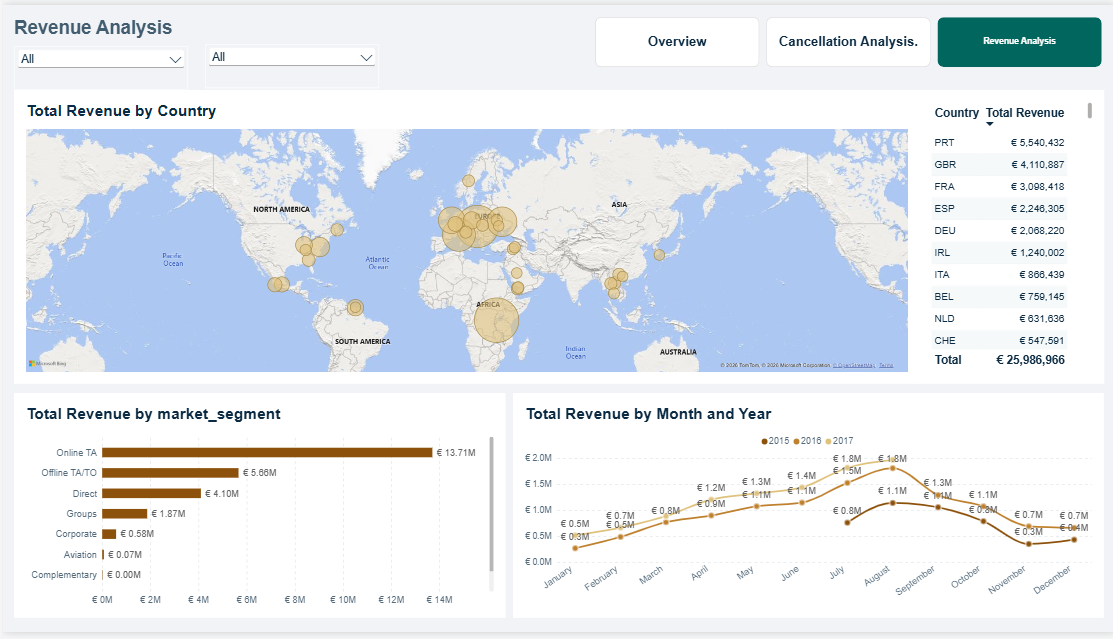

The page's visual inventory and layout, read from the dashboard file:
{"tool":"powerbi","page":{"name":"Revenue Analysis","canvas":[1920,1080],"ordinal":2},"visuals":[{"type":"slicer","fields":{"Values":["DateTable.Year"]},"box":[18.5,70,299.9,75.8],"z":0},{"type":"slicer","fields":{"Values":["vw_bookings_detail.hotel"]},"box":[347.8,67.9,299.9,75.8],"z":1000},{"type":"map","fields":{"Category":["vw_bookings_detail.country"],"Size":["_Measures.Total Revenue"]},"box":[18.2,147.2,1561,506.2],"z":2000},{"type":"barChart","fields":{"Category":["vw_bookings_detail.market_segment"],"Y":["_Measures.Total Revenue"]},"box":[18.2,669.6,847.1,387.2],"z":3000},{"type":"lineChart","fields":{"Category":["DateTable.Month"],"Series":["DateTable.Year"],"Y":["_Measures.Total Revenue"]},"box":[879.3,669.6,1018.5,387.2],"z":4000},{"type":"textbox","box":[19,20.7,380.9,75.8],"z":5000},{"type":"pageNavigator","box":[1018.6,18.5,878.7,90.5],"z":6000},{"type":"tableEx","fields":{"Values":["vw_bookings_detail.country","_Measures.Total Revenue"]},"box":[1579.2,147.2,318.7,506.2],"z":6001}]}

Visuals, with their boxes in screenshot pixels (x1, y1, x2, y2), scaled from the page's 1920x1080 canvas onto the 1113x639 screenshot:
slicer - DateTable.Year: x1=11 y1=41 x2=185 y2=86
slicer - vw_bookings_detail.hotel: x1=202 y1=40 x2=375 y2=85
map - vw_bookings_detail.country x _Measures.Total Revenue: x1=11 y1=87 x2=915 y2=387
barChart - vw_bookings_detail.market_segment x _Measures.Total Revenue: x1=11 y1=396 x2=502 y2=625
lineChart - DateTable.Month x DateTable.Year: x1=510 y1=396 x2=1100 y2=625
textbox: x1=11 y1=12 x2=232 y2=57
pageNavigator: x1=590 y1=11 x2=1100 y2=64
tableEx - vw_bookings_detail.country x _Measures.Total Revenue: x1=915 y1=87 x2=1100 y2=387
